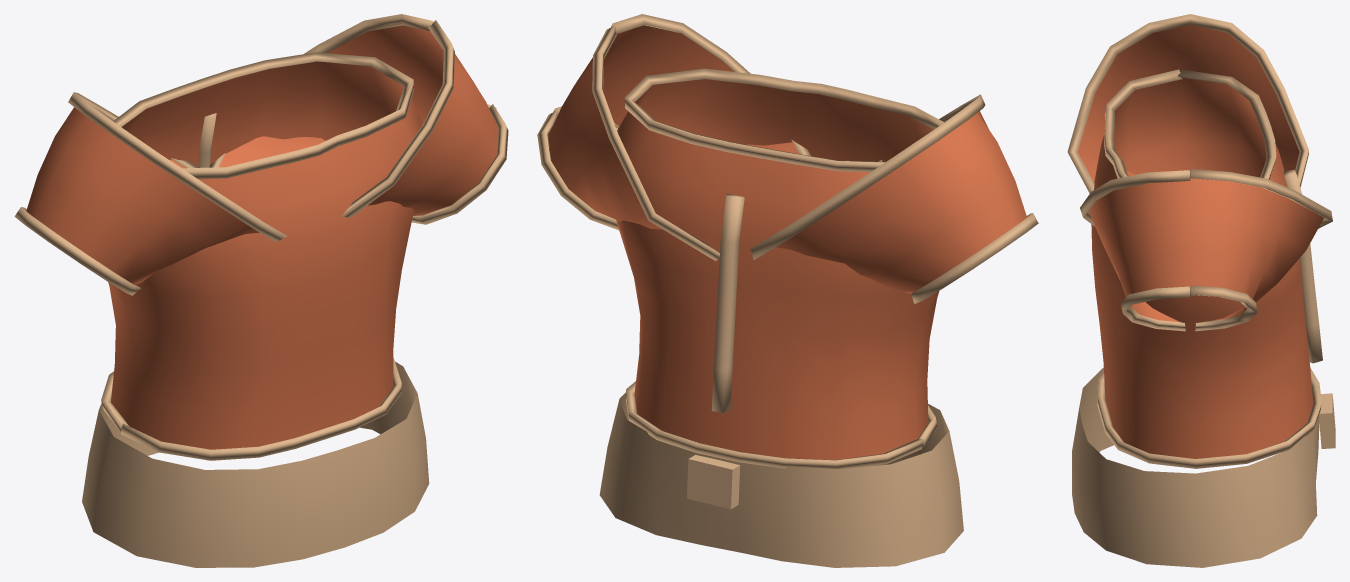
File: palladium_chainmail.glb
3 renders of one model, left to right at view 1: azimuth 30°, elevation 25°; view 2: azimuth 150°, elevation 25°; view 3: azimuth 270°, elevation 25°, orthographic. The views are drawn at different scales.
Visible parts, largest first — view 1: palladium_chainmail_chest; view 2: palladium_chainmail_chest; view 3: palladium_chainmail_chest.
Boxes of the visible parts, <box> form: palladium_chainmail_chest: <box>14,14,508,567</box>; palladium_chainmail_chest: <box>537,14,1038,567</box>; palladium_chainmail_chest: <box>1067,14,1335,567</box>.
Size of the model in its own units: 0.6477 by 0.5848 by 0.3444.
